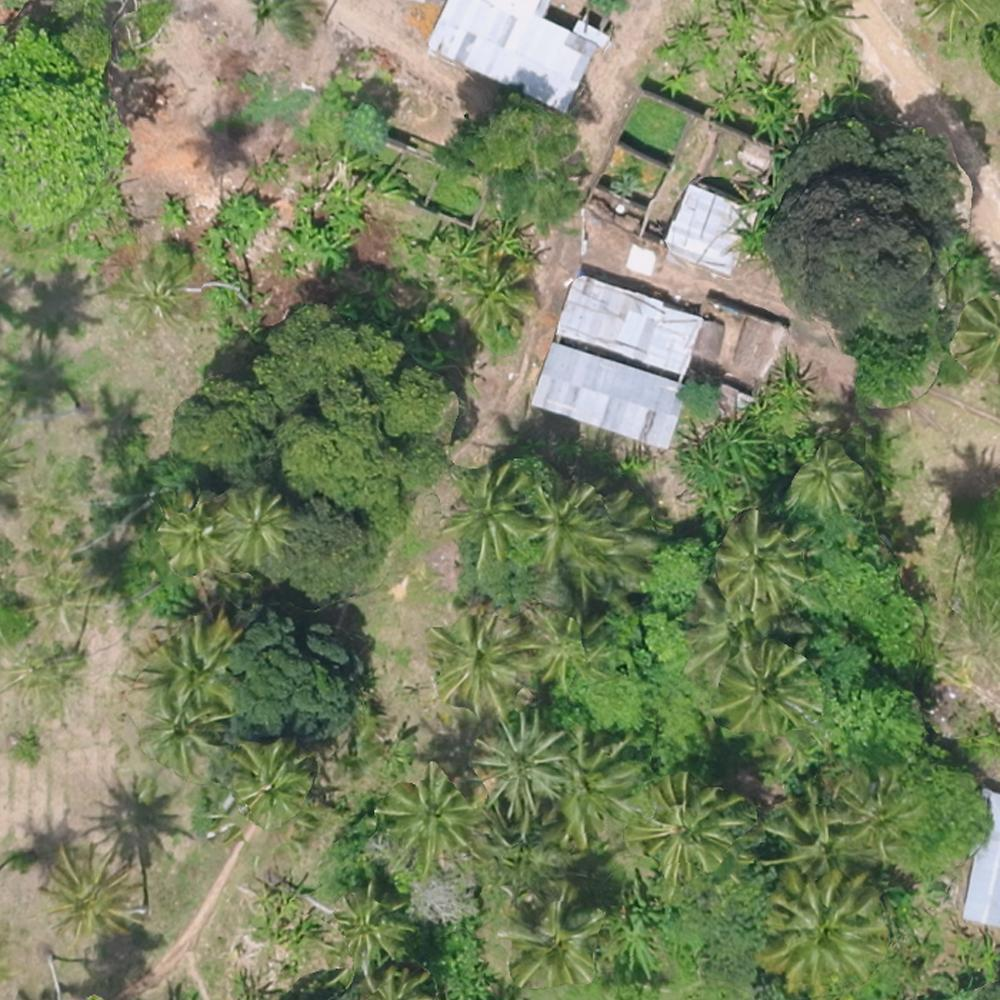Palm: (762, 866, 882, 982), (628, 778, 731, 880), (494, 890, 604, 985), (552, 723, 640, 841), (429, 614, 524, 710), (42, 844, 137, 936), (474, 717, 567, 810), (378, 772, 470, 865), (717, 641, 808, 732), (716, 516, 803, 606), (531, 486, 621, 573), (149, 617, 240, 702), (447, 469, 532, 555), (227, 741, 305, 827), (159, 501, 235, 578), (141, 696, 218, 766), (214, 489, 288, 561), (792, 445, 858, 515)
